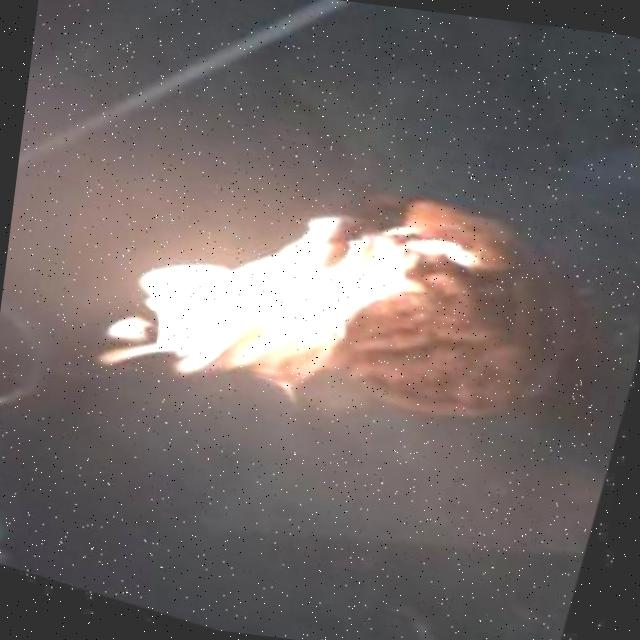fire: (97, 150, 475, 423)
